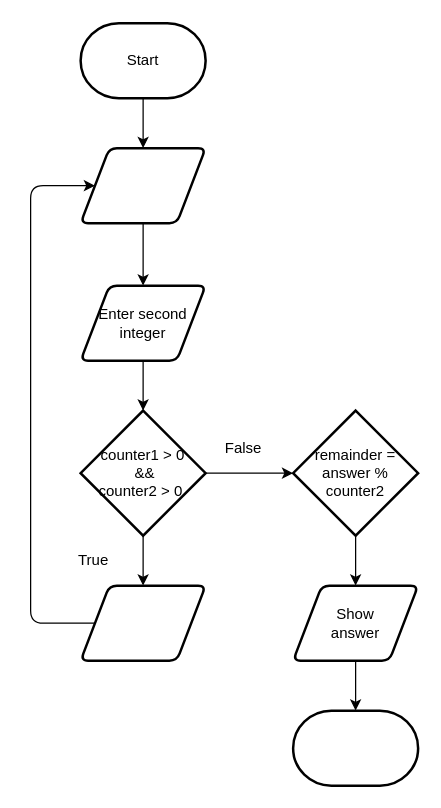
Image size: 441x808. Some labels were removed from this diagram. Each missing label, with the centre of its shape:
add 1 to addednumber: point (142, 622)
Enter first integer: point (142, 185)
Stop: point (355, 747)
